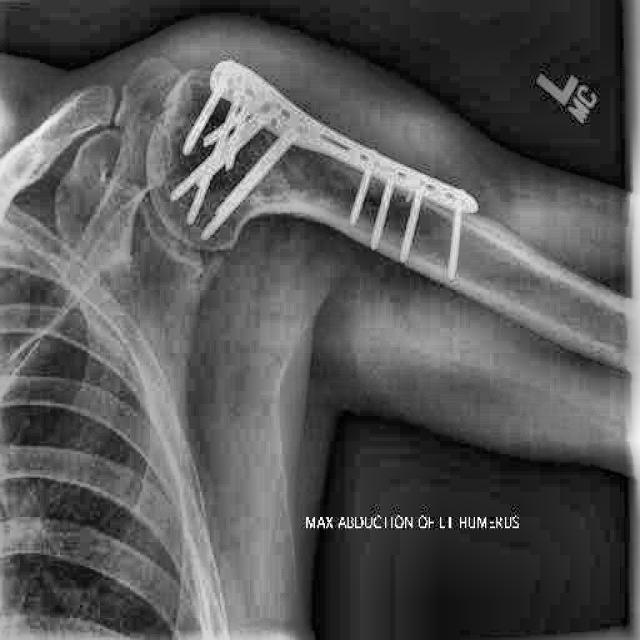humerus: (260, 100, 413, 228)
